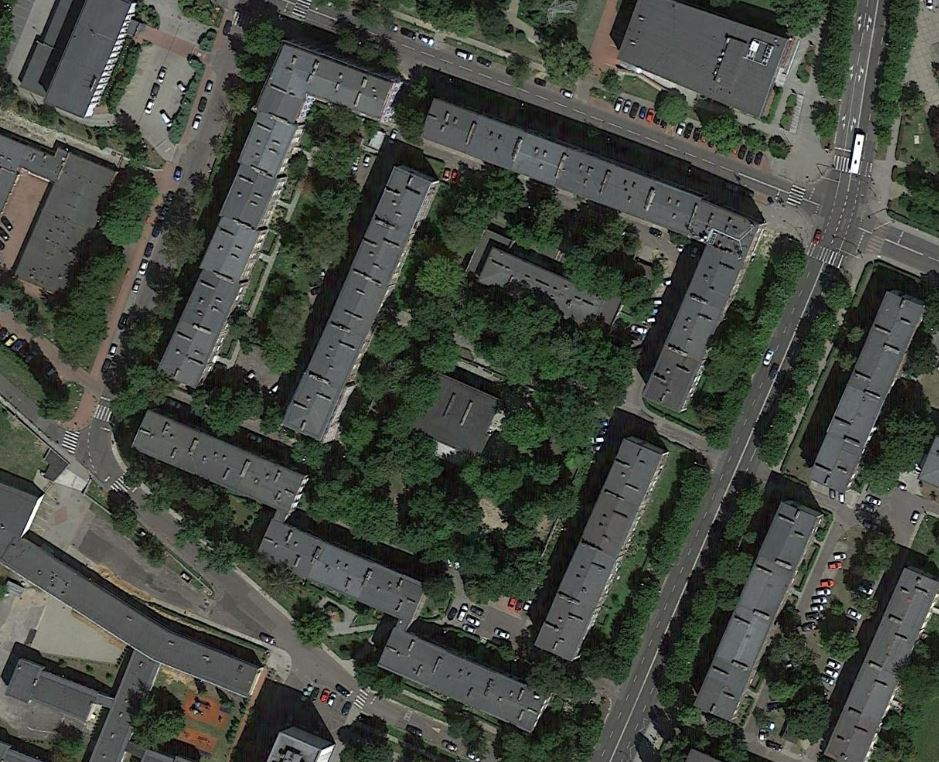block of flats: (417, 97, 769, 415), (154, 36, 405, 389), (1, 474, 280, 707), (278, 160, 440, 447), (526, 427, 673, 665), (682, 495, 828, 729), (807, 288, 926, 496), (818, 564, 936, 762), (374, 624, 563, 740), (126, 410, 308, 518), (251, 518, 429, 626), (36, 1, 139, 120)
shopping_center: (594, 1, 796, 122)
